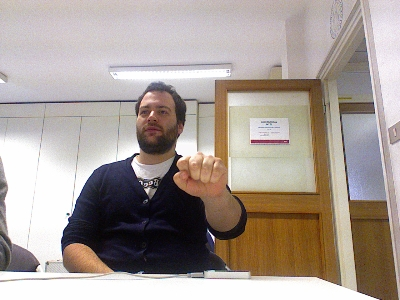石头: (172, 151, 229, 200)
